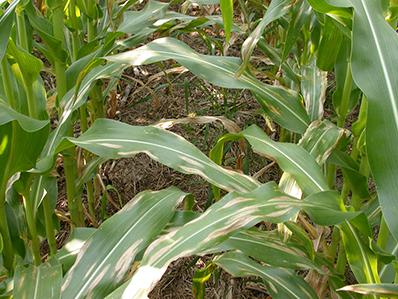Corn leaf blight: (117, 183, 348, 299), (69, 36, 324, 135), (35, 115, 269, 194), (70, 187, 196, 299)
